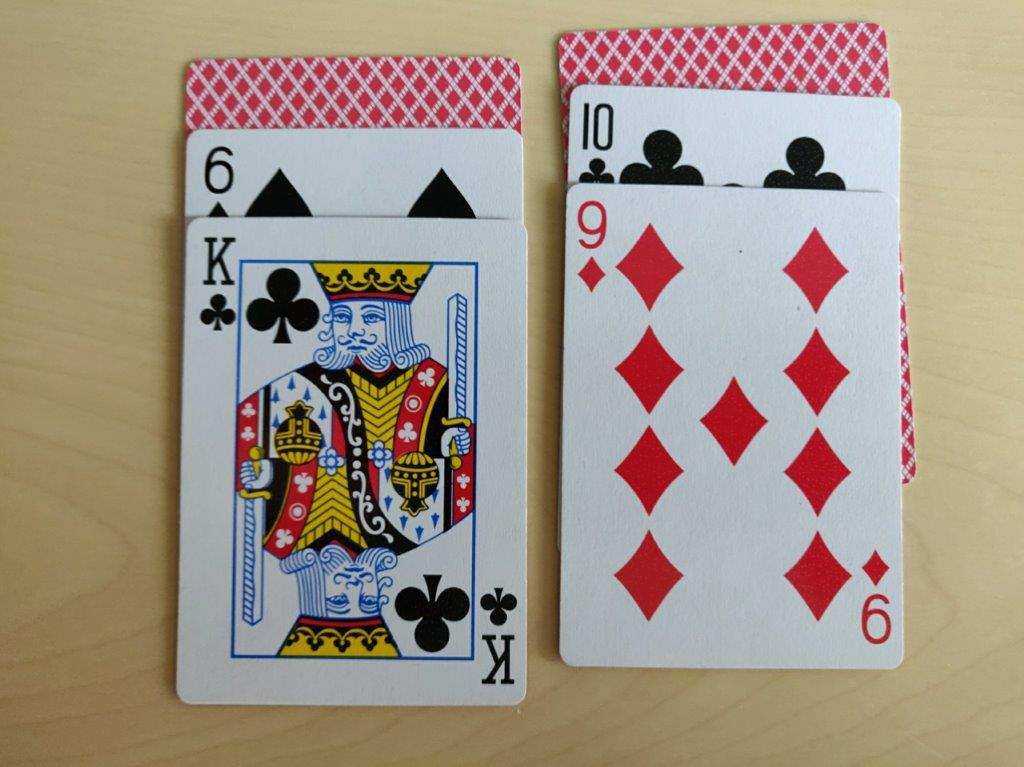10C: (574, 97, 621, 189)
6S: (195, 136, 239, 226)
9D: (573, 196, 610, 299)
BACK: (553, 16, 900, 98), (180, 51, 528, 132)
KC: (193, 229, 242, 335)
